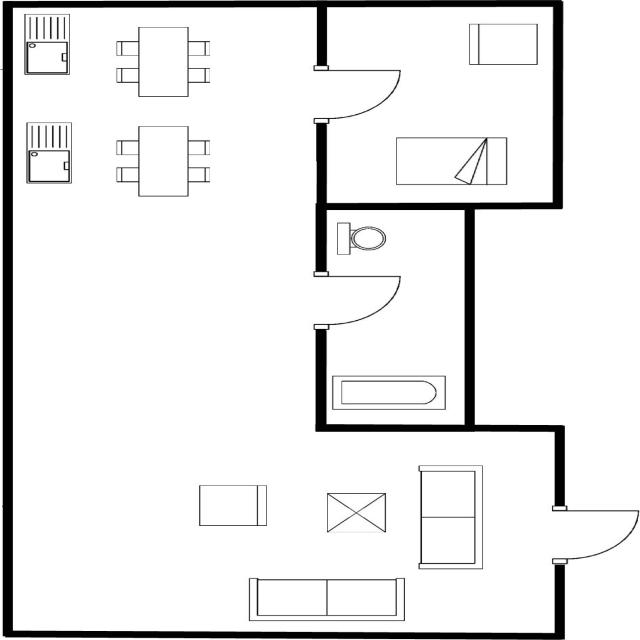bed: (388, 132, 513, 188)
coffee_table: (322, 489, 389, 534)
dining_table: (108, 23, 216, 101), (112, 122, 216, 200)
large_sink: (330, 219, 390, 259)
large_sofa: (240, 574, 409, 625), (411, 461, 487, 574)
sink: (20, 119, 78, 188), (18, 11, 74, 78)
small_sofa: (461, 18, 545, 70), (192, 481, 273, 529)
tub: (328, 371, 451, 414)
